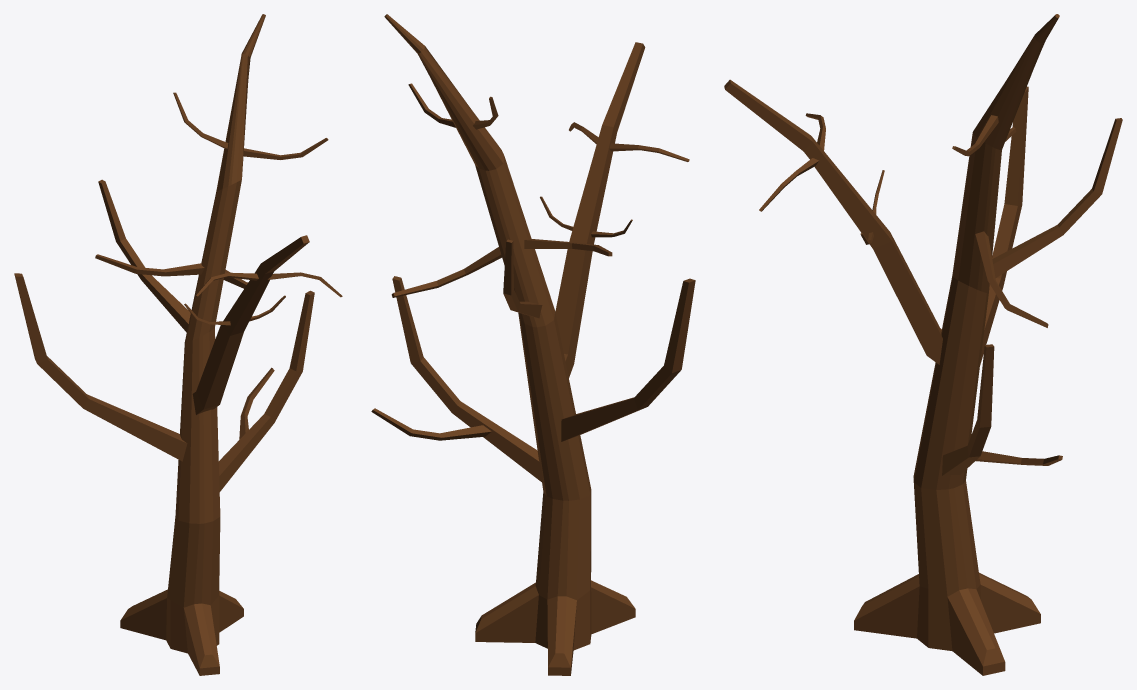
The model's file is 12 Trunk.FBX.
3 views of the same model, side by side, from view 1: azimuth 30°, elevation 25°; view 2: azimuth 150°, elevation 25°; view 3: azimuth 270°, elevation 25° (orthographic). The views are drawn at different scales.
Parts seen in each view (by area): view 1: _11_tree003; view 2: _11_tree003; view 3: _11_tree003.
Part boxes in pixels (<box>): _11_tree003: <box>14,14,342,675</box>; _11_tree003: <box>371,14,695,675</box>; _11_tree003: <box>724,14,1122,675</box>.
Bounding box in the file's own units: 1111 × 2107 × 1101.
